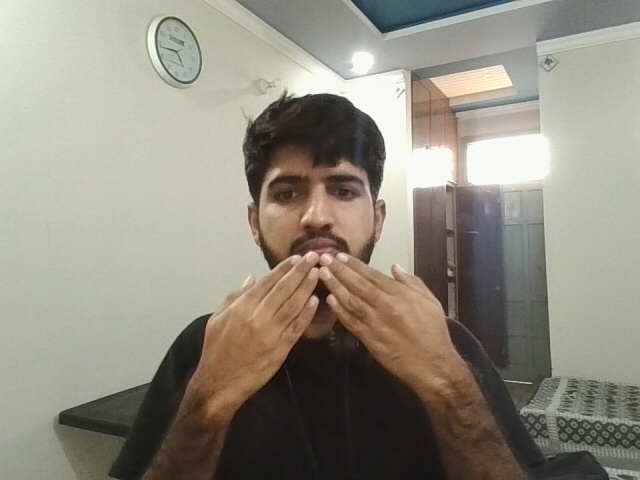Thanks: (127, 244, 534, 427)
